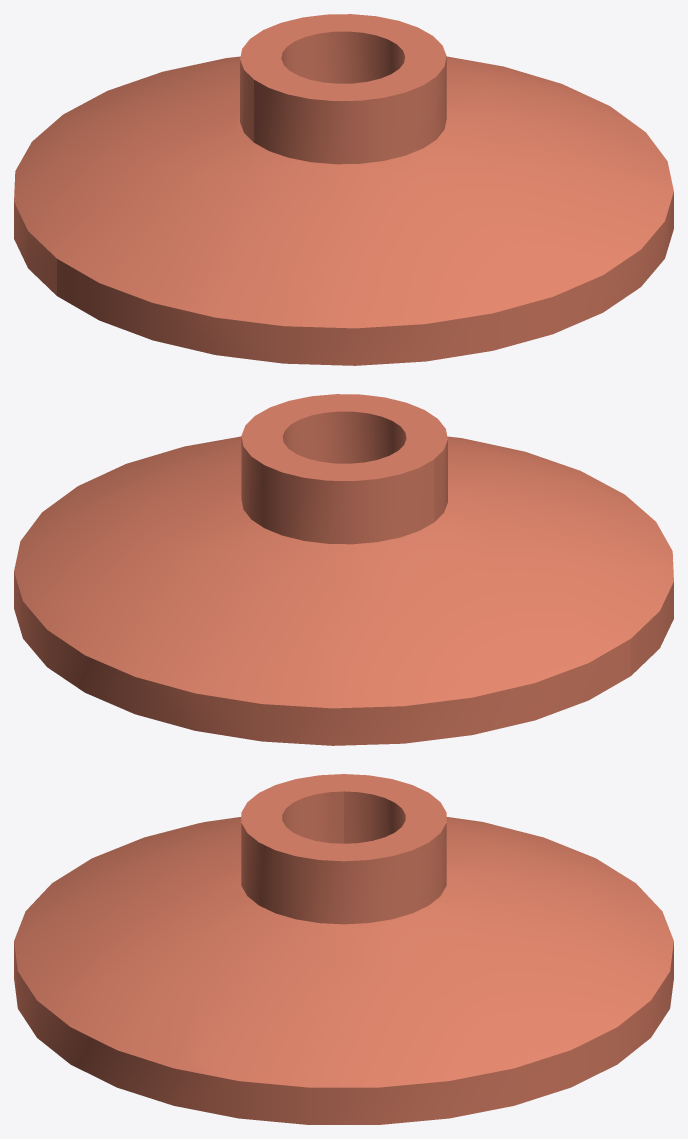
3 renders of one model, top to bottom at view 1: azimuth 30°, elevation 25°; view 2: azimuth 150°, elevation 25°; view 3: azimuth 270°, elevation 25°, orthographic.
Visible parts, largest first — view 1: [pivoted]; view 2: [pivoted]; view 3: [pivoted].
Part boxes in pixels (box(x1,y1,x2,y2)): [pivoted]: box(14, 14, 673, 365); [pivoted]: box(14, 394, 673, 745); [pivoted]: box(14, 774, 673, 1124).
Size of the model in its own units: 1.6 by 0.45 by 1.6.
